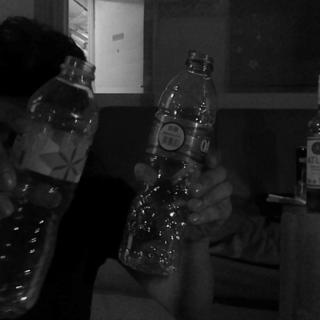plastic_bottles: (0, 55, 99, 318), (119, 51, 218, 277)
